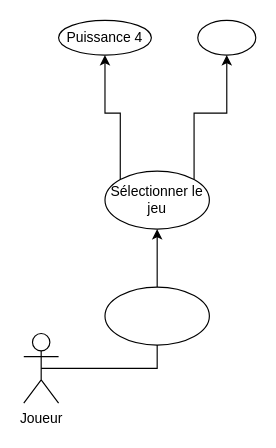
This 276x448 diagram has some shape labels left out. Here are the shapes that lost their labels. From the top down, the centre of each, then its label:
At (x=226, y=37): "Nim".
At (x=156, y=315): "Choisir entre solo ou multi".
